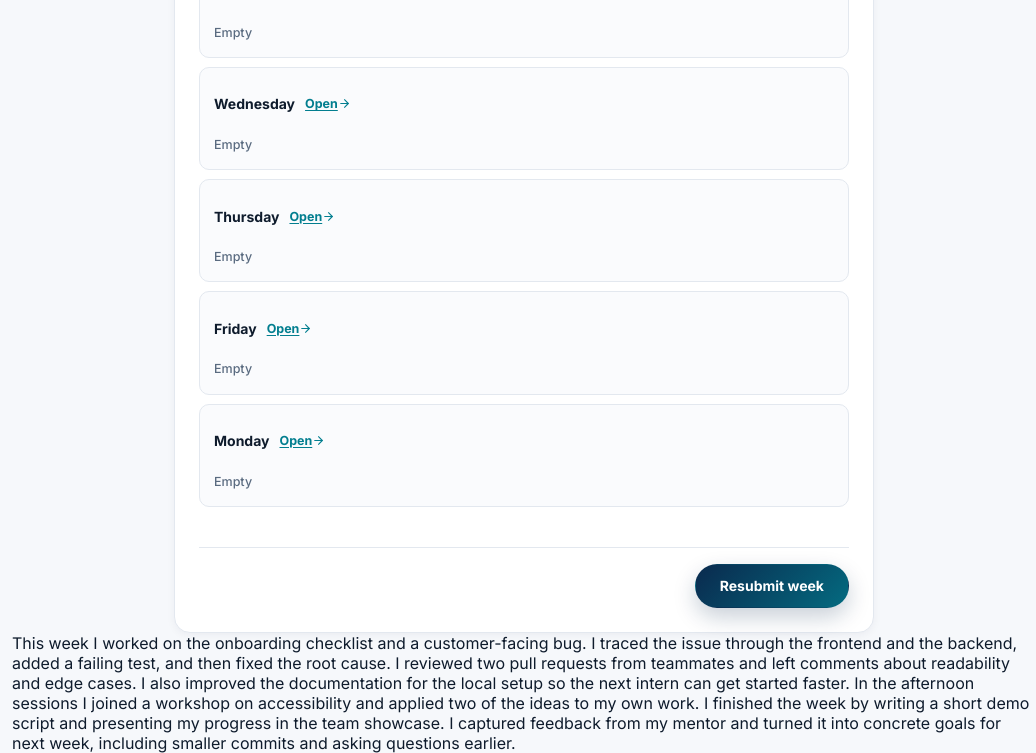
Test: WeekPage submit control › resubmits a changes-requested week immediately even when unchanged
(page scrolled)
Step 1. Click the button "Resubmit week" → (772, 586), box [695,564,849,608]
(page scrolled)
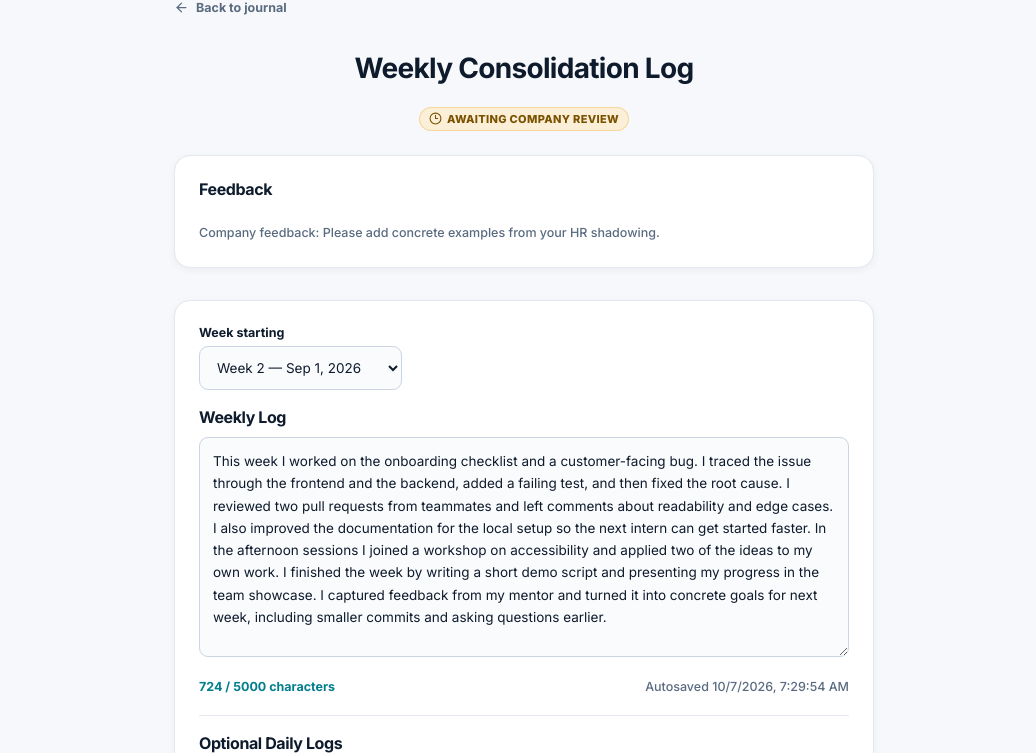
Expected: the text "Awaiting company review" is shown, [419,107,629,131]
